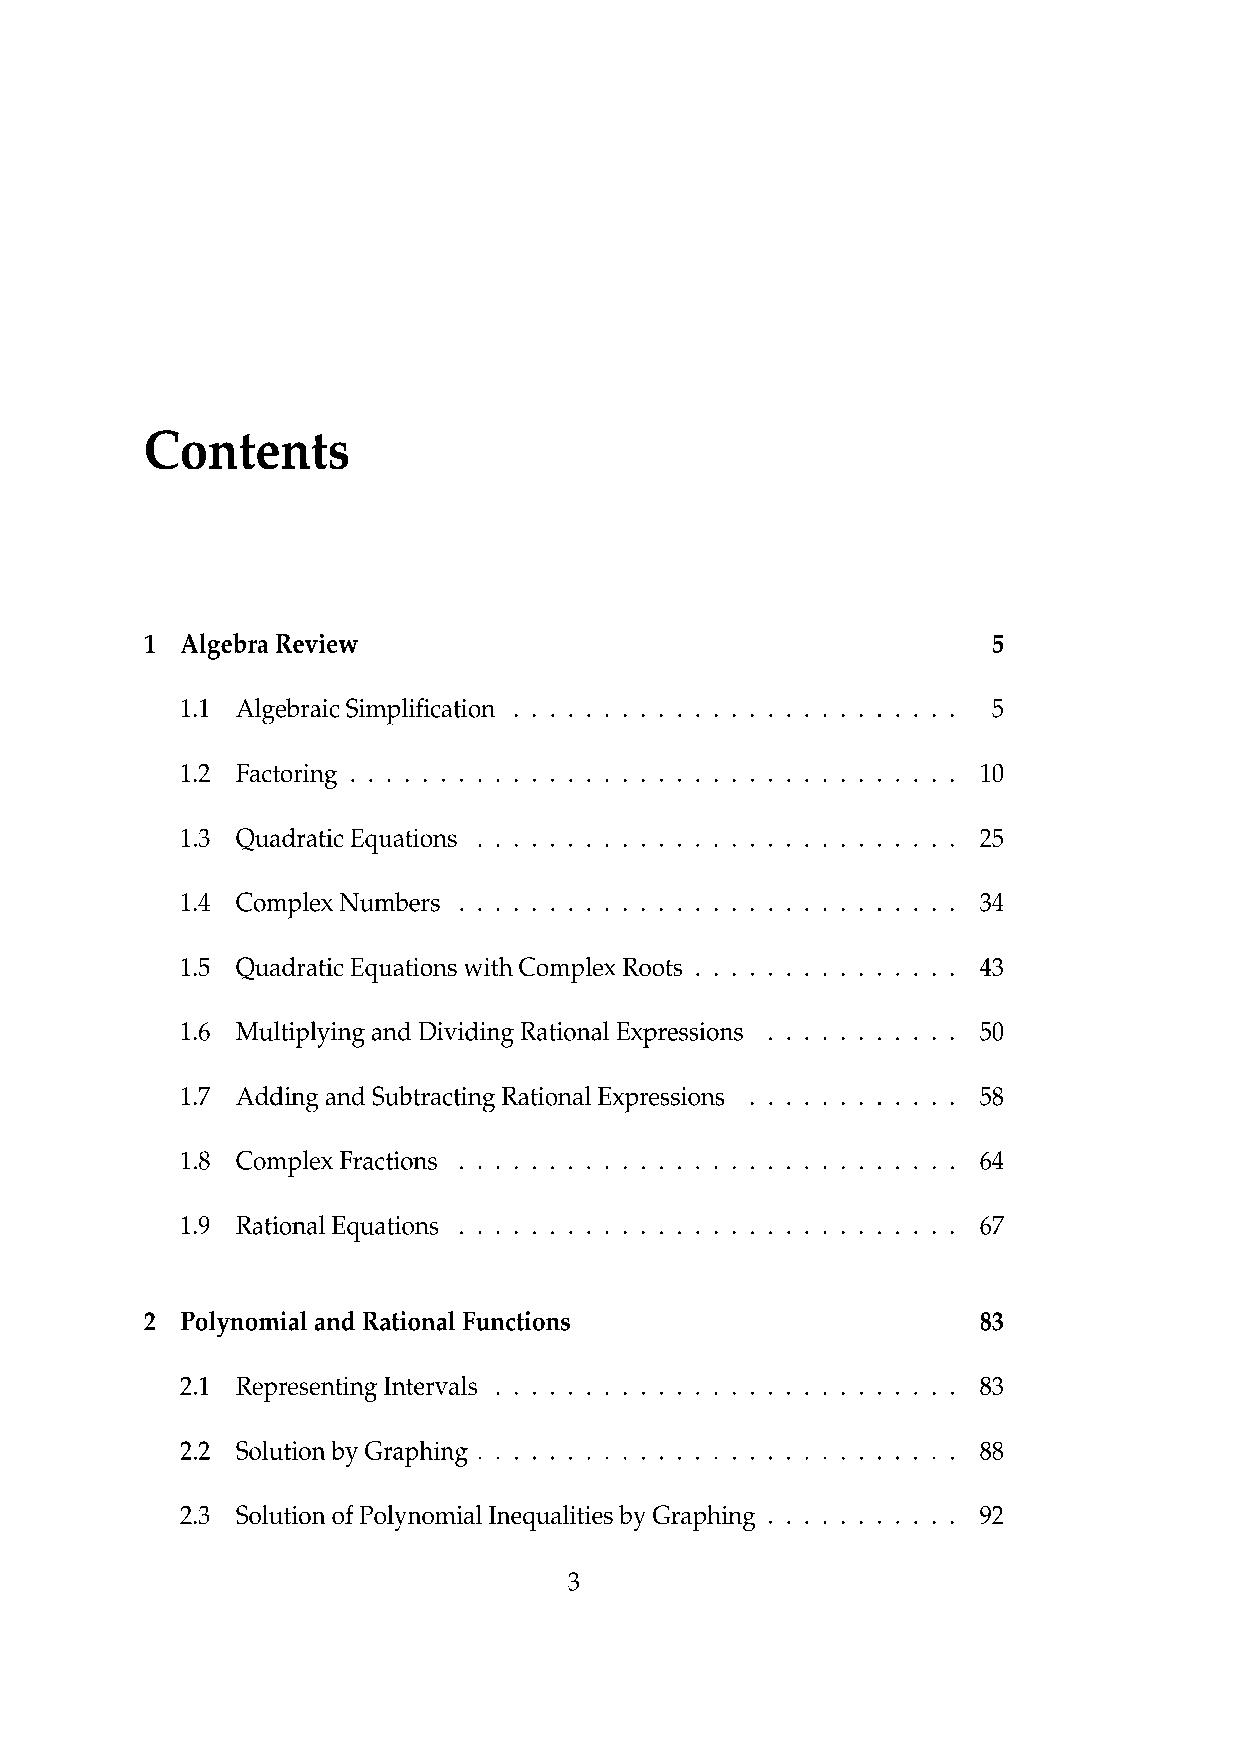TOC_chapter: (177, 1502, 756, 1533), (180, 1082, 725, 1113), (178, 1017, 742, 1047), (178, 956, 682, 982), (140, 1308, 570, 1338), (178, 1435, 468, 1467), (178, 823, 459, 855), (177, 1373, 480, 1402), (176, 697, 498, 723), (180, 1147, 437, 1180), (180, 888, 442, 919), (180, 1210, 439, 1241), (140, 629, 360, 658), (178, 760, 340, 790)
TOC_pagenumber: (977, 1503, 1006, 1530), (977, 953, 1005, 980), (978, 886, 1004, 914), (977, 1215, 1008, 1237), (977, 762, 1006, 785), (980, 824, 1005, 849), (980, 1306, 1002, 1334), (978, 1374, 1006, 1397), (980, 1020, 1004, 1044), (980, 1439, 1004, 1463), (980, 1083, 1004, 1106), (980, 1151, 1002, 1172), (988, 697, 1006, 721), (990, 631, 1006, 655)
chapter: (144, 428, 352, 472)
content_pagenumber: (564, 1567, 581, 1594)
